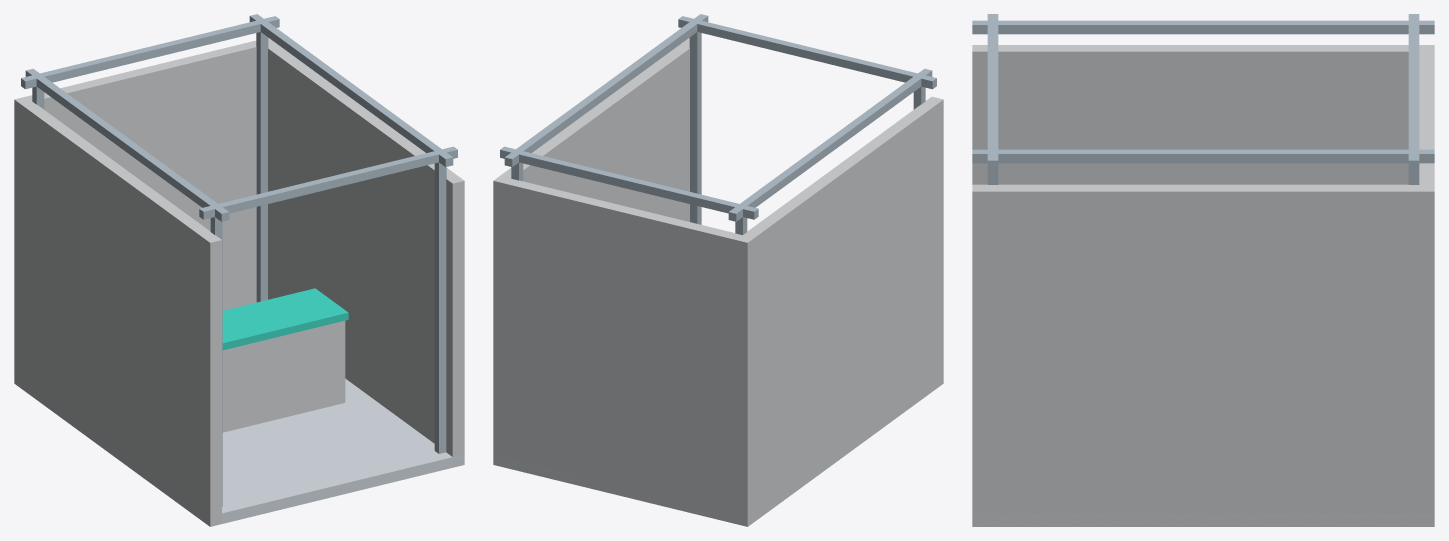
3 renders of one model, left to right at view 1: azimuth 30°, elevation 25°; view 2: azimuth 150°, elevation 25°; view 3: azimuth 270°, elevation 25°, orthographic. The views are drawn at different scales.
Parts seen in each view (by area): view 1: Exhibition Booth Concept; view 2: Exhibition Booth Concept; view 3: Exhibition Booth Concept.
Boxes of the visible parts, x1,y1,x2,y2 form: Exhibition Booth Concept: [14, 14, 464, 526]; Exhibition Booth Concept: [493, 14, 943, 526]; Exhibition Booth Concept: [972, 14, 1434, 526].
Bounding box in the file's own units: 3 × 3.49 × 4.
